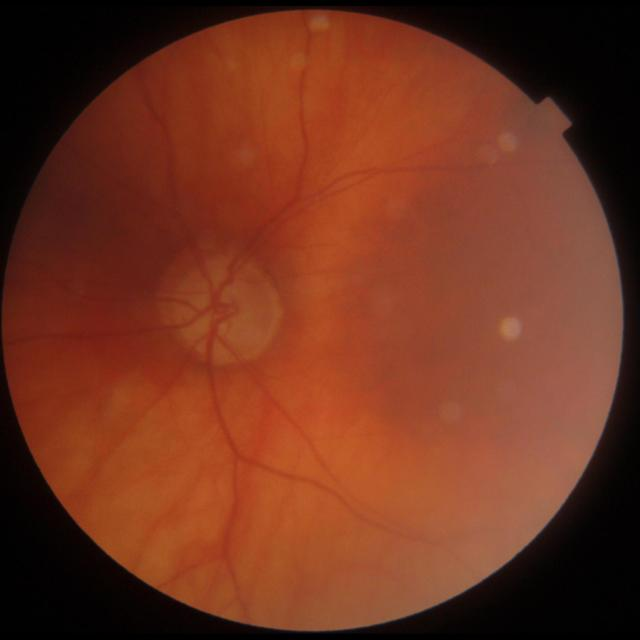OD: (174, 258, 279, 364)
